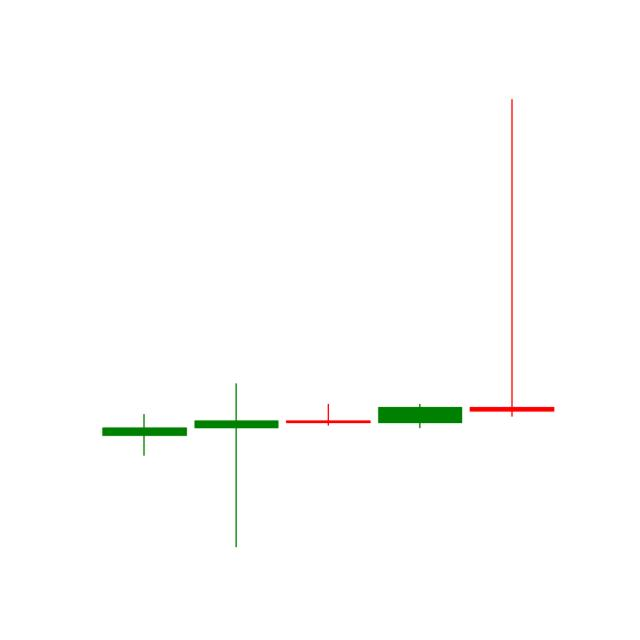Standard Doji: (103, 416, 187, 457)
